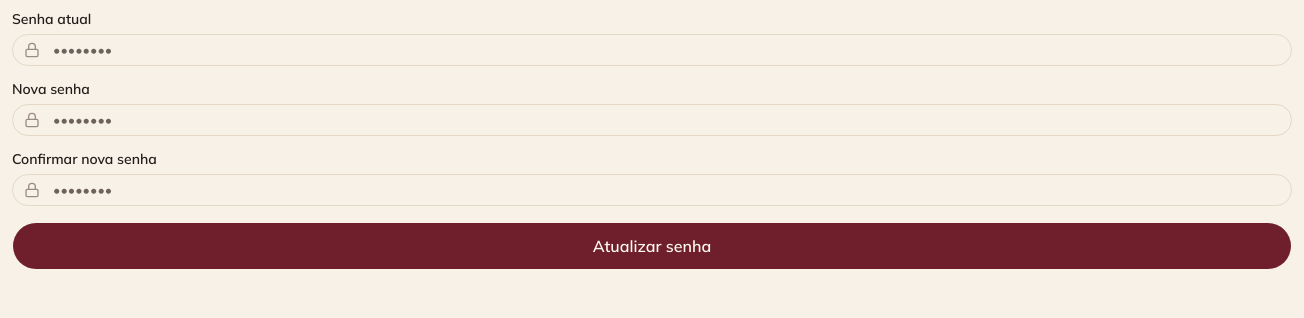
Test case: ChangePasswordForm › shows an error when the current password is empty
This screenshot has width=1304, height=318.
In the password field labelled "Nova senha": coordinates (652, 120) [12,104,1292,136], type "new-password"
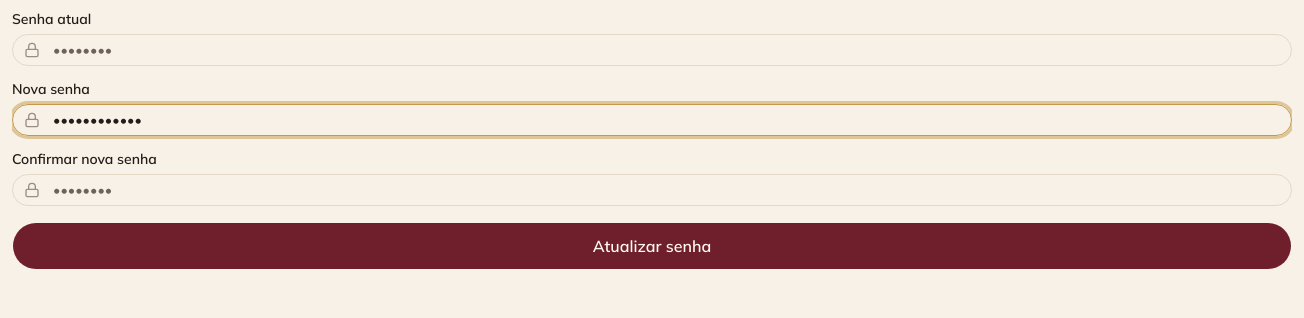
In the password field labelled "Confirmar nova senha": coordinates (652, 190) [12,174,1292,206], type "new-password"
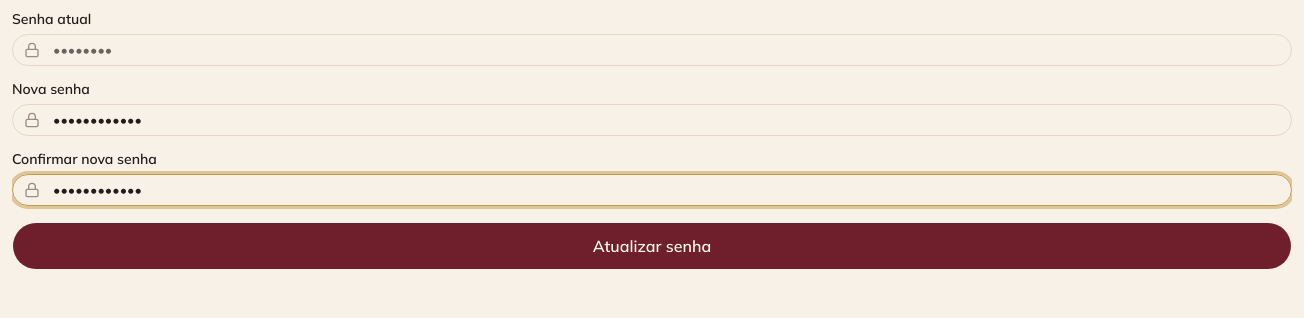
Click the button "Atualizar senha": coordinates (652, 246) [12,222,1292,270]
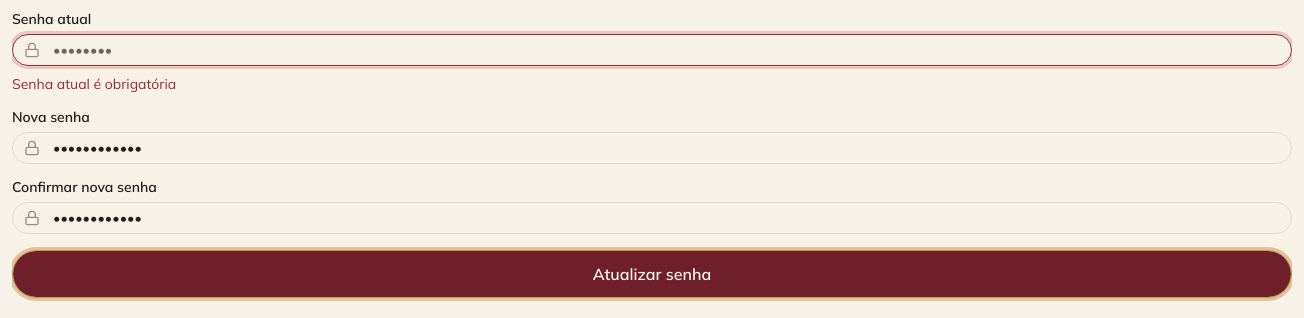
Now the text "Senha atual é obrigatória" is shown, box [12,75,176,93]
